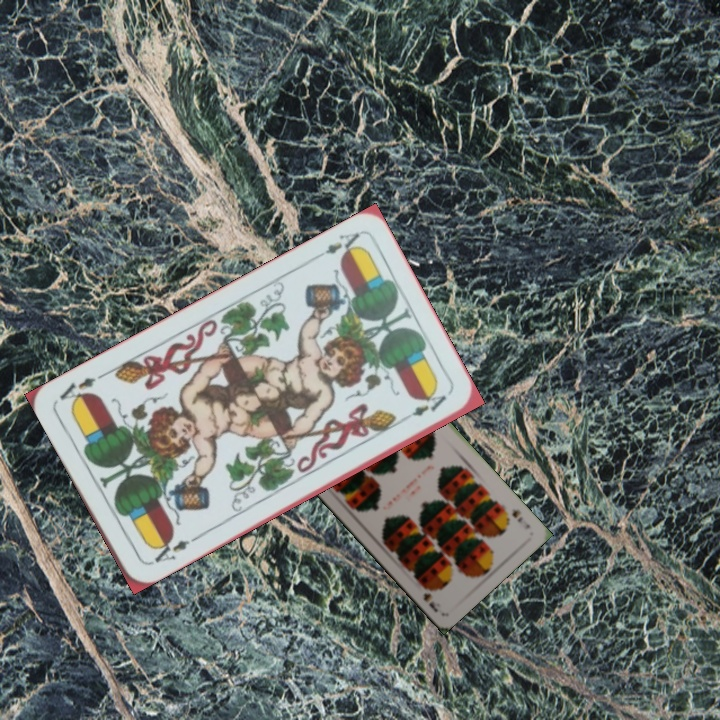EA: (309, 228, 364, 263), (145, 533, 199, 568)
S9: (508, 504, 533, 532)
